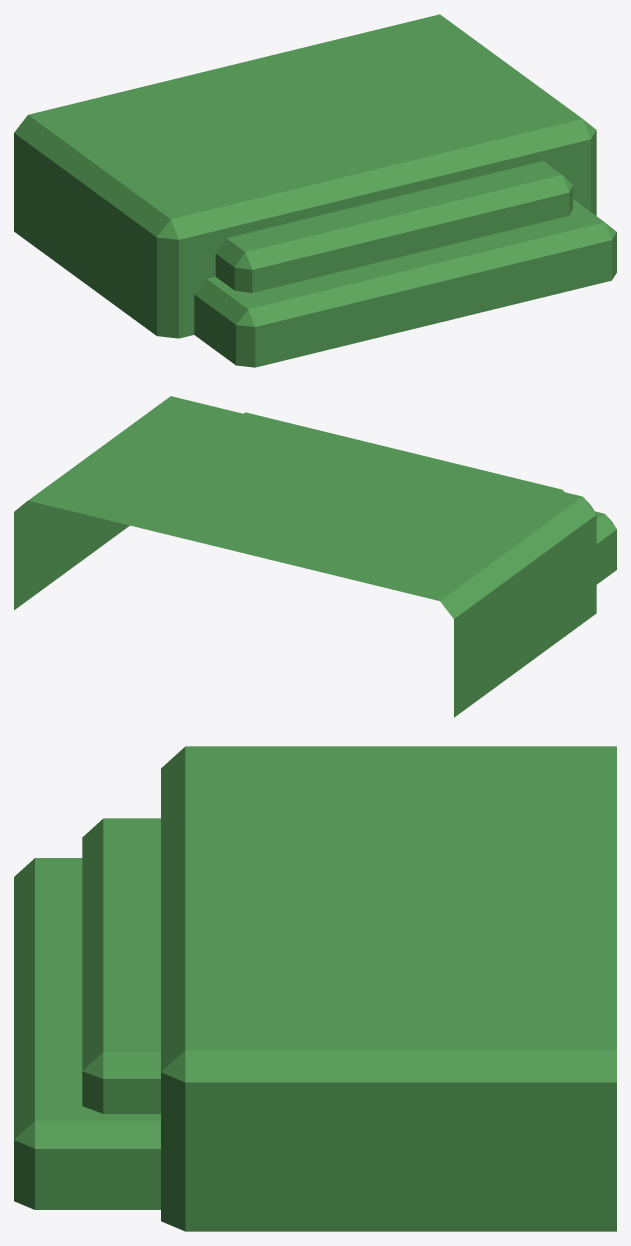
Rendered from Porch_Wood.fbx.
3 views of the same model, one above another, from view 1: azimuth 30°, elevation 25°; view 2: azimuth 150°, elevation 25°; view 3: azimuth 270°, elevation 25° (orthographic). The views are drawn at different scales.
Visible parts, largest first — view 1: pCube79; view 2: pCube79; view 3: pCube79.
Boxes of the visible parts, x1,y1,x2,y2 form: pCube79: [14, 14, 616, 367]; pCube79: [14, 396, 616, 717]; pCube79: [14, 746, 616, 1231].
Size of the model in its own units: 259 by 63.93 by 204.
